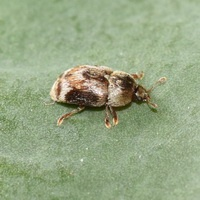insect: (50, 65, 166, 127)
